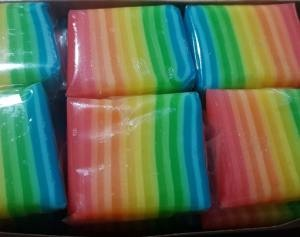kue_lapis_pelangi: (66, 99, 213, 224), (67, 6, 195, 92), (206, 91, 300, 207), (188, 4, 299, 88)
